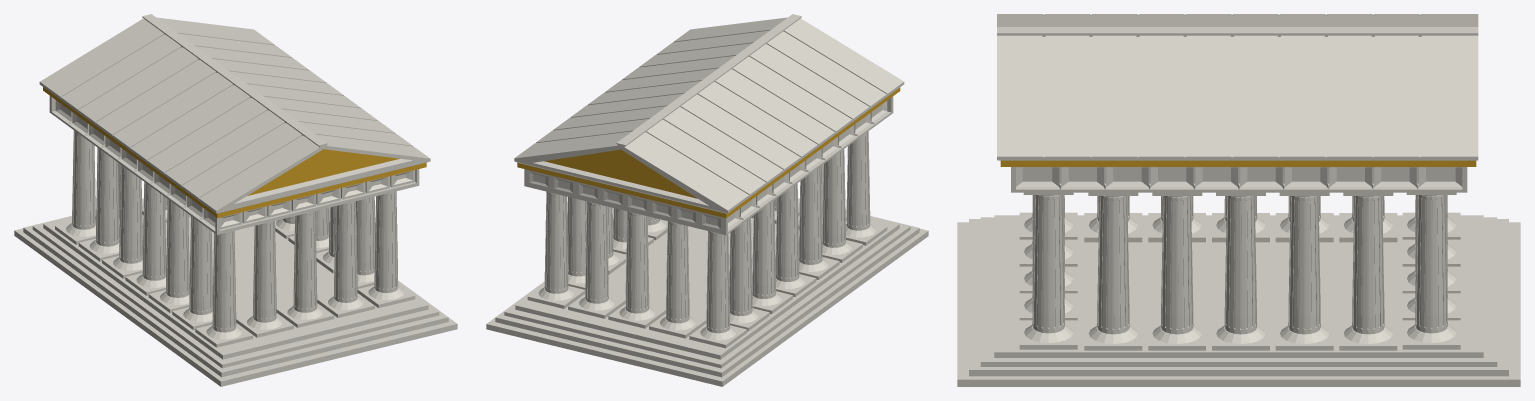
File: greek_temple.fbx
The picture shows the model from 3 angles, left to right: view 1: azimuth 30°, elevation 25°; view 2: azimuth 150°, elevation 25°; view 3: azimuth 270°, elevation 25°; orthographic projection. The views are drawn at different scales.
Visible parts, largest first — view 1: Cube.005; view 2: Cube.005; view 3: Cube.005.
Boxes of the visible parts, x1,y1,x2,y2 form: Cube.005: (14, 14, 457, 386); Cube.005: (486, 14, 928, 386); Cube.005: (957, 14, 1520, 386).
Size of the model in its own units: 288 by 237 by 436.
